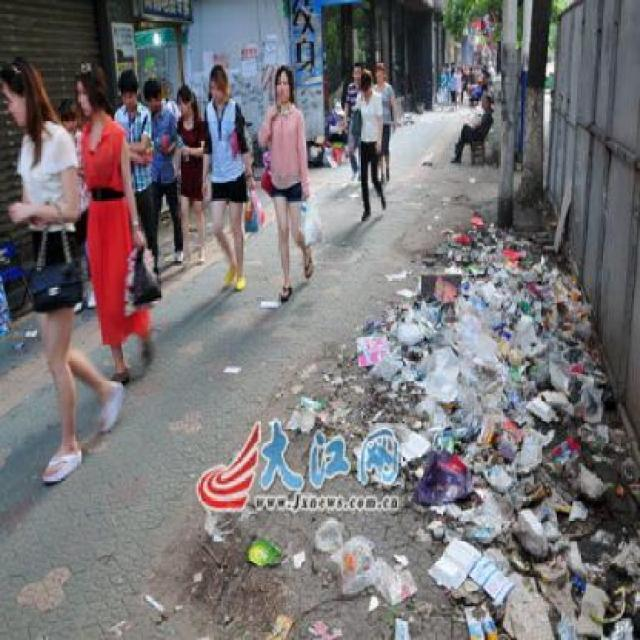garbage: (423, 226, 587, 638), (293, 511, 420, 604), (354, 296, 417, 410), (285, 392, 420, 426)
